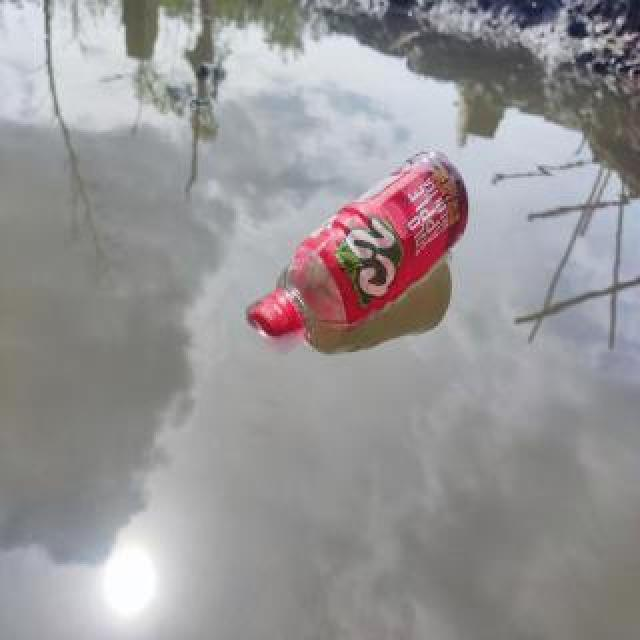bottle: (243, 142, 477, 346)
